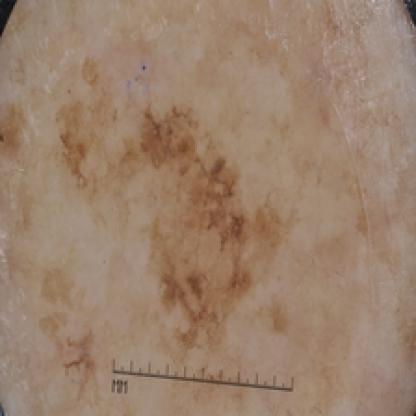malignant: (47, 65, 323, 312)
